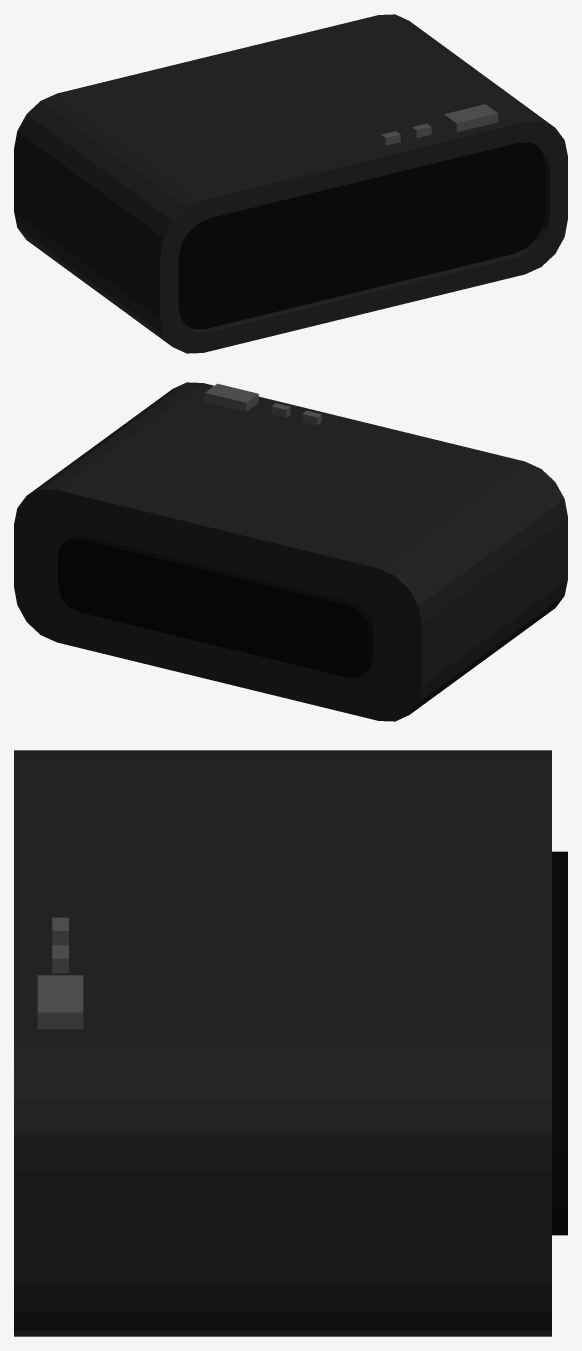
The model's file is Clock_02.fbx.
3 views of the same model, one above another, from view 1: azimuth 30°, elevation 25°; view 2: azimuth 150°, elevation 25°; view 3: azimuth 270°, elevation 25° (orthographic). The views are drawn at different scales.
Parts seen in each view (by area): view 1: Clock_02; view 2: Clock_02; view 3: Clock_02.
Part boxes in pixels (x1=…): Clock_02: x1=14, y1=14, x2=567, y2=353; Clock_02: x1=14, y1=382, x2=567, y2=721; Clock_02: x1=14, y1=750, x2=567, y2=1336.
Size of the model in its own units: 13.97 by 5.29 by 8.94.
